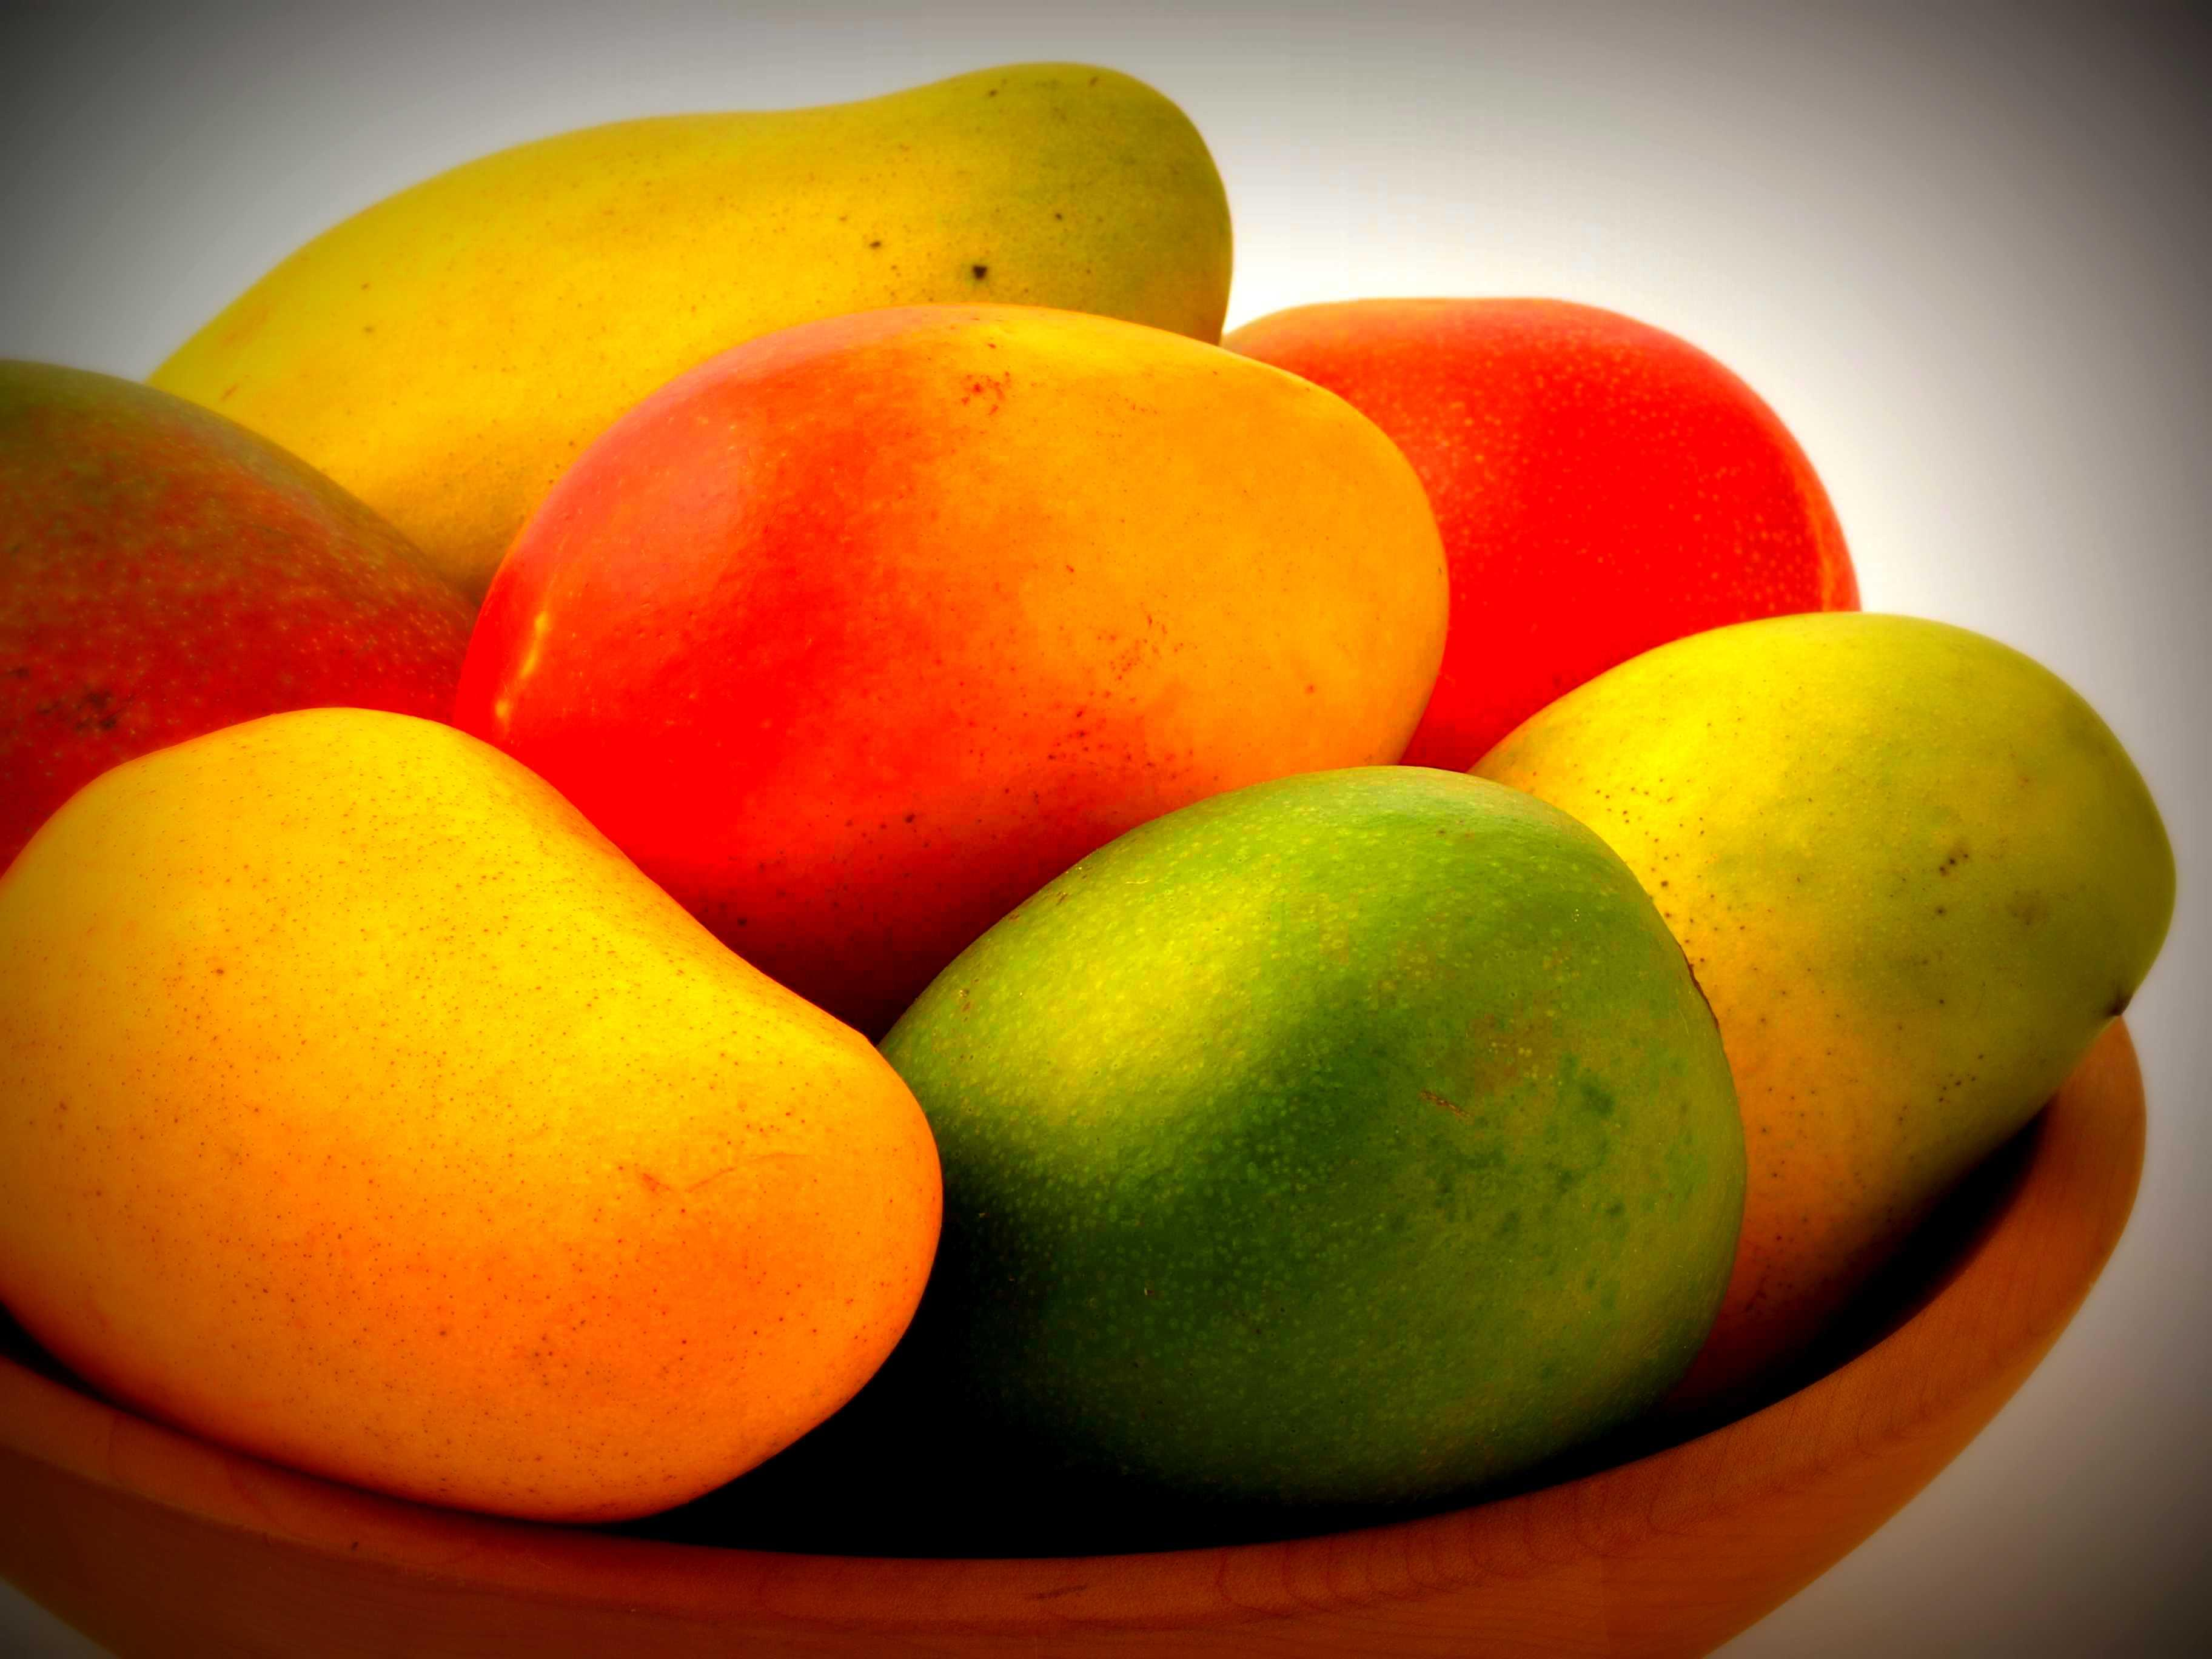mango: (0, 692, 909, 1502), (897, 775, 1768, 1511), (449, 303, 1444, 810), (1534, 594, 2177, 1204), (103, 78, 1223, 298), (17, 364, 482, 748)
